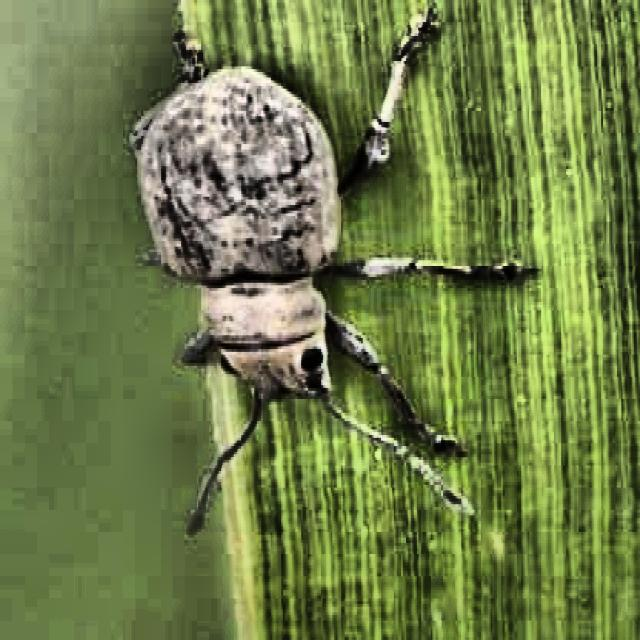Stink bug: (75, 0, 445, 518)
